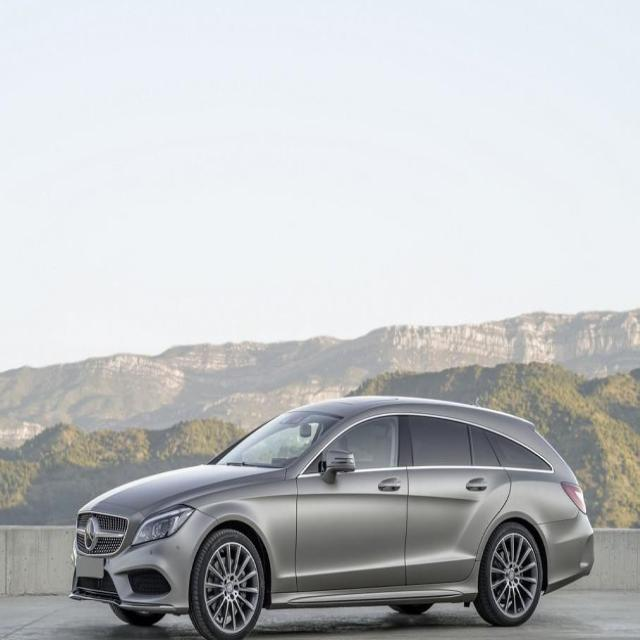back_left_side_light: (559, 480, 588, 514)
door: (400, 416, 512, 578)
front_bumper: (69, 535, 191, 611)
front_glass: (208, 409, 343, 468)
front_left_side_door: (294, 410, 409, 595)
front_left_side_light: (129, 502, 196, 549)
front_left_side_mirror: (321, 448, 356, 479)
rear_bumper: (534, 508, 596, 596)
wheel: (188, 527, 265, 637), (481, 521, 543, 626)
